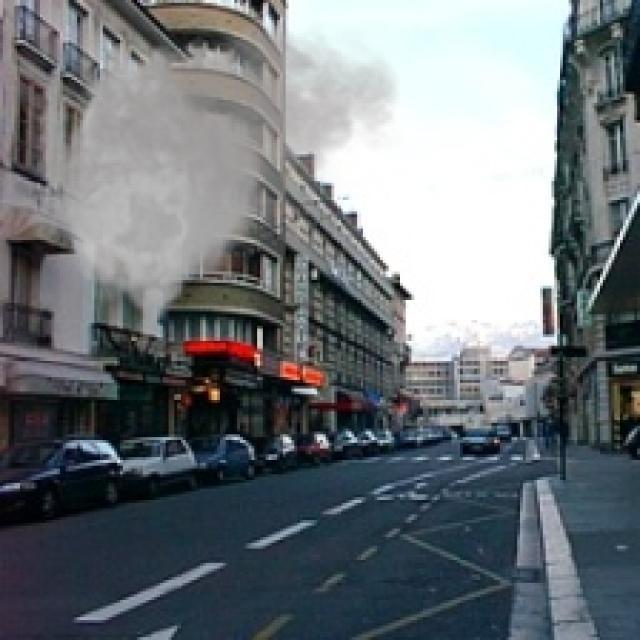Smoke: (8, 8, 406, 363)
